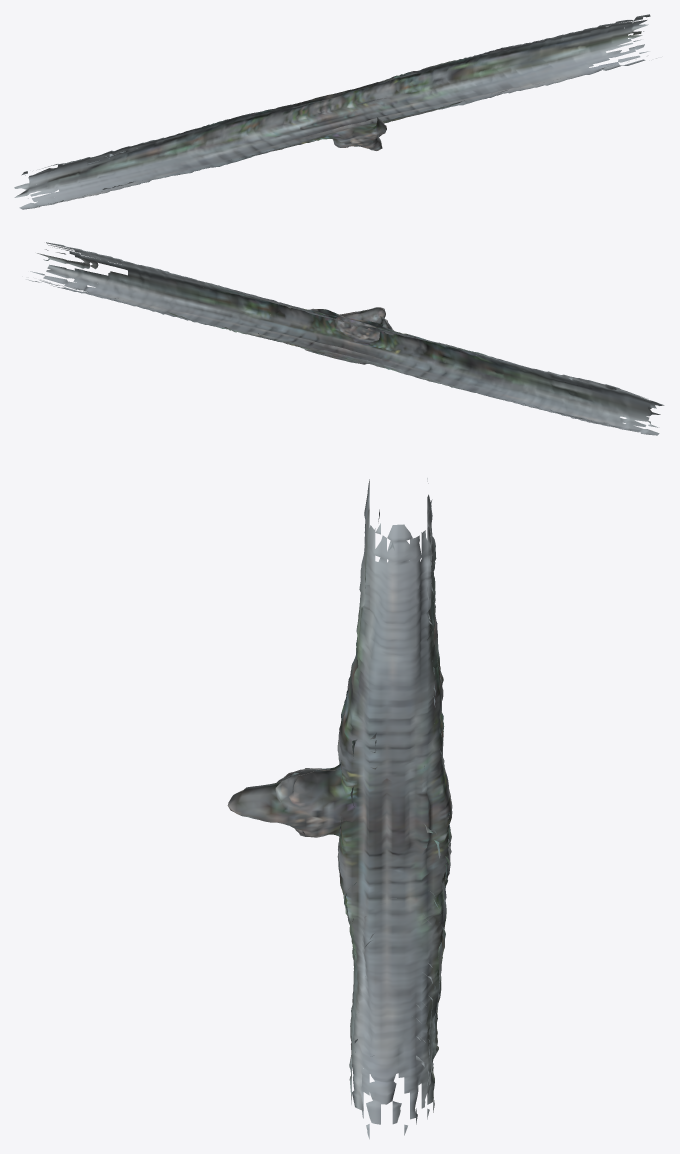
File: gen-13.glb
3 views of the same model, one above another, from view 1: azimuth 30°, elevation 25°; view 2: azimuth 150°, elevation 25°; view 3: azimuth 270°, elevation 25° (orthographic). The views are drawn at different scales.
Visible parts, largest first — view 1: world; view 2: world; view 3: world.
Boxes of the visible parts, x1=… form: world: x1=14, y1=14, x2=656, y2=209; world: x1=26, y1=242, x2=664, y2=435; world: x1=227, y1=478, x2=452, y2=1139.
Bounding box in the file's own units: 37.45 × 2.41 × 5.7.
